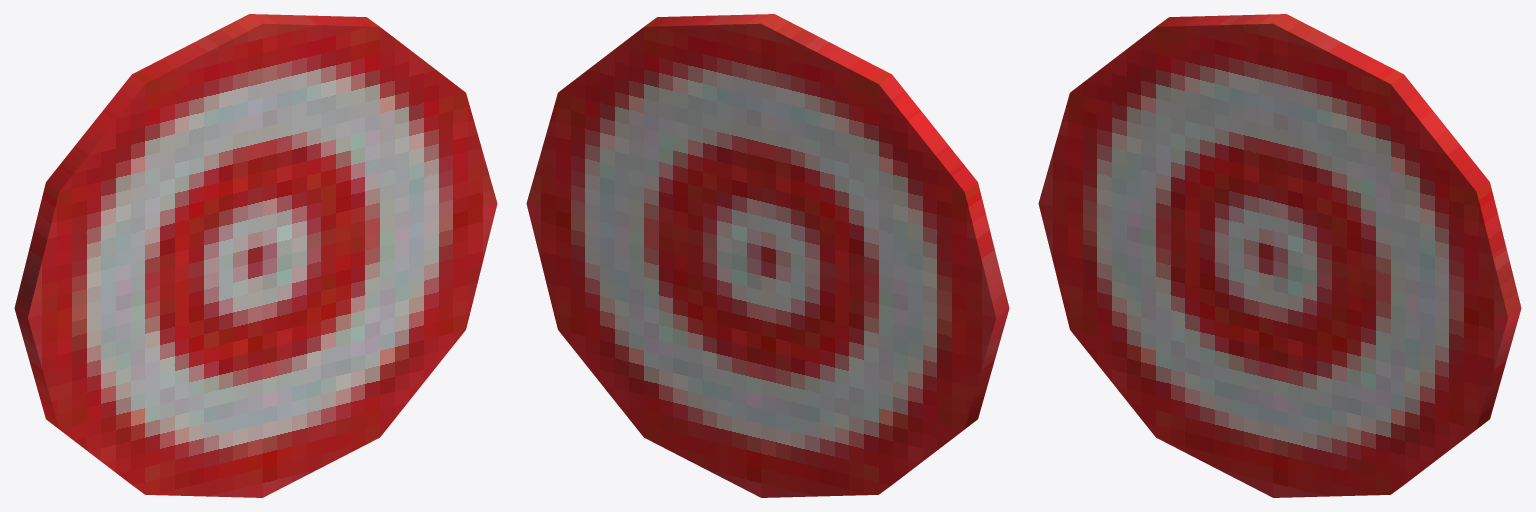
The model's file is target1.obj.
The picture shows the model from 3 angles, left to right: view 1: azimuth 30°, elevation 25°; view 2: azimuth 150°, elevation 25°; view 3: azimuth 330°, elevation 25°; orthographic projection.
Visible parts, largest first — view 1: Cylinder04; view 2: Cylinder04; view 3: Cylinder04.
Part boxes in pixels (left/top/right/bottom): Cylinder04: left=14, top=14, right=497, bottom=497; Cylinder04: left=526, top=14, right=1009, bottom=497; Cylinder04: left=1038, top=14, right=1521, bottom=497.
Bounding box in the file's own units: 16.32 × 15.74 × 0.8016.
